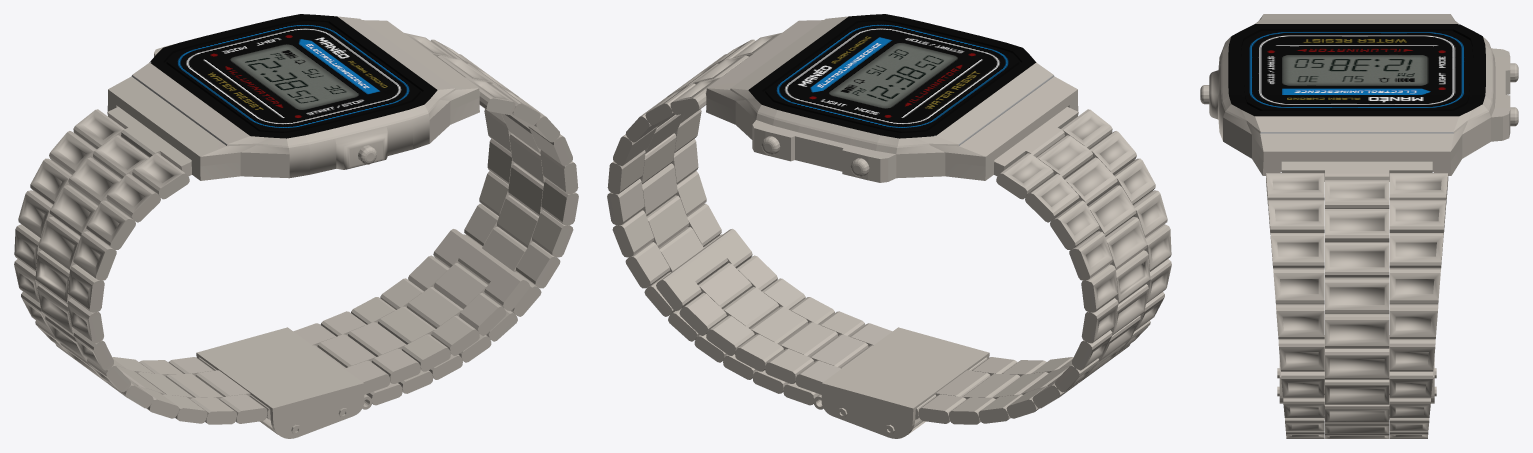
File: New_Watch.glb
The picture shows the model from 3 angles, left to right: view 1: azimuth 30°, elevation 25°; view 2: azimuth 150°, elevation 25°; view 3: azimuth 270°, elevation 25°; orthographic projection.
Parts seen in each view (by area): view 1: Digital_Wristwatch; view 2: Digital_Wristwatch, Digital_Wristwatch.002; view 3: Digital_Wristwatch, Digital_Wristwatch.002.
Boxes of the visible parts, x1=… form: Digital_Wristwatch: x1=14, y1=14, x2=578, y2=438; Digital_Wristwatch: x1=607, y1=14, x2=1171, y2=438; Digital_Wristwatch.002: x1=752, y1=120, x2=896, y2=182; Digital_Wristwatch: x1=1209, y1=14, x2=1495, y2=438; Digital_Wristwatch.002: x1=1491, y1=48, x2=1510, y2=141.
Bounding box in the file's own units: 4.74 × 3.01 × 2.63.
Materials: 1 (1 with a texture image).
